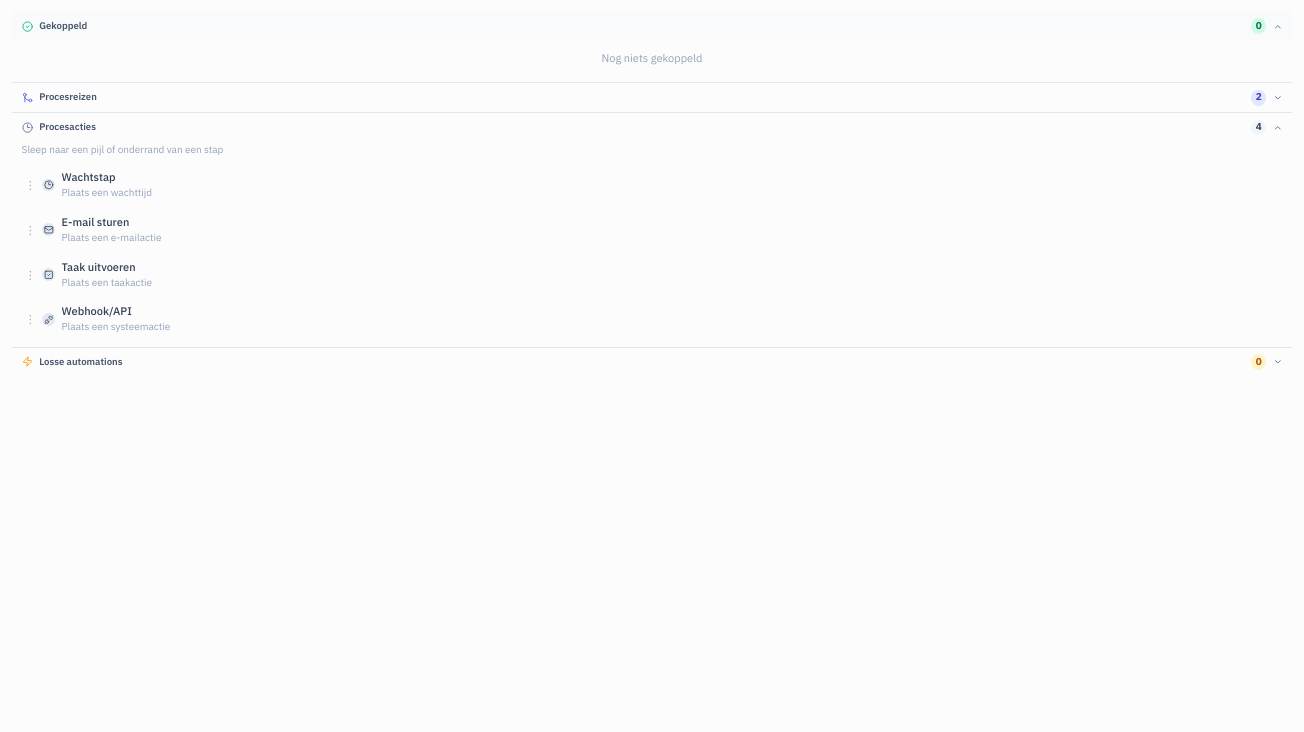
Test: UnassignedPanel automation search › filters process journeys by name, description, system, and id
Click the button "Procesreizen 2". click: coordinates (68, 97)
box: [12, 83, 1292, 112]
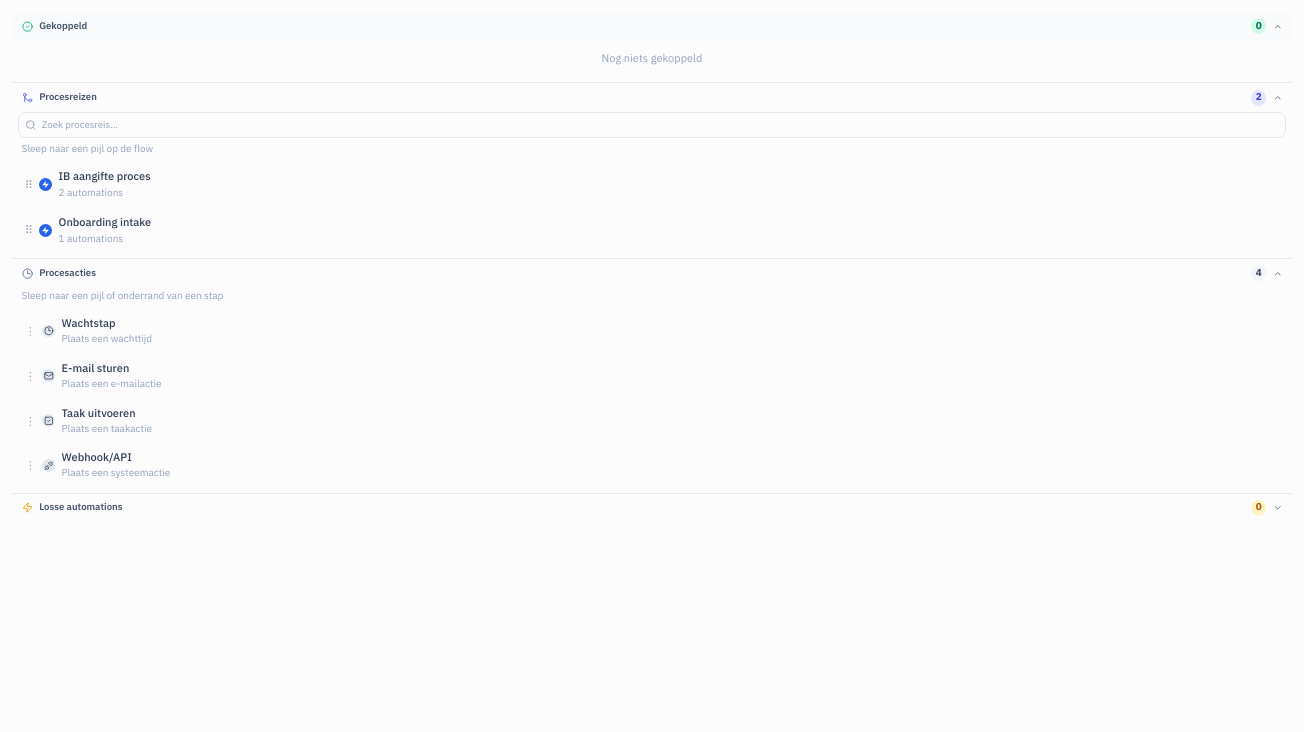
Expected: the text "IB aangifte proces" is shown, [59, 169, 151, 183]
Expected: the text "Onboarding intake" is shown, [59, 215, 151, 229]
Type "inkomstenbelasting" into the field with placeholder "Zoek procesreis...". click: coordinates (652, 125)
box: [18, 112, 1286, 138]
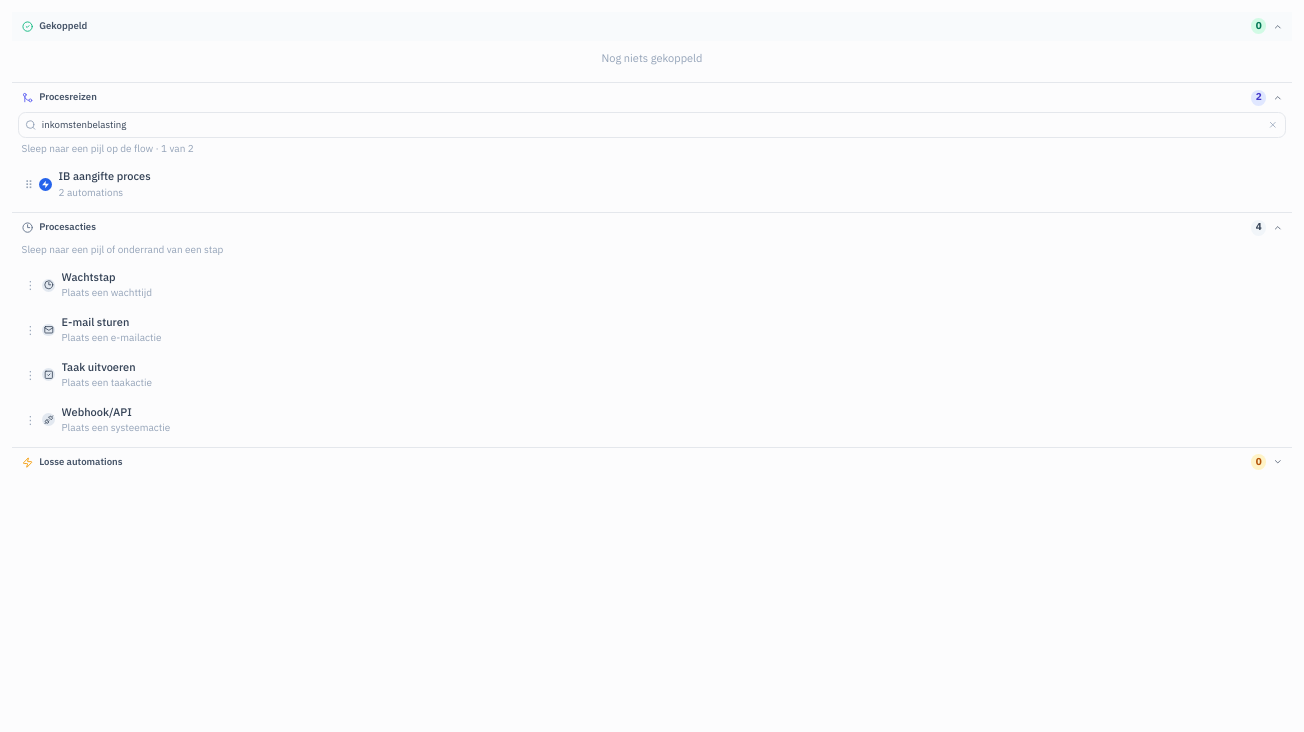
Expected: the text "IB aangifte proces" is shown, [59, 169, 151, 183]
Expected: the text "Onboarding intake" is gone
Replace the text in the field with placeholder "Zoek procesreis..." with "typeform". click: coordinates (652, 125)
box: [18, 112, 1286, 138]
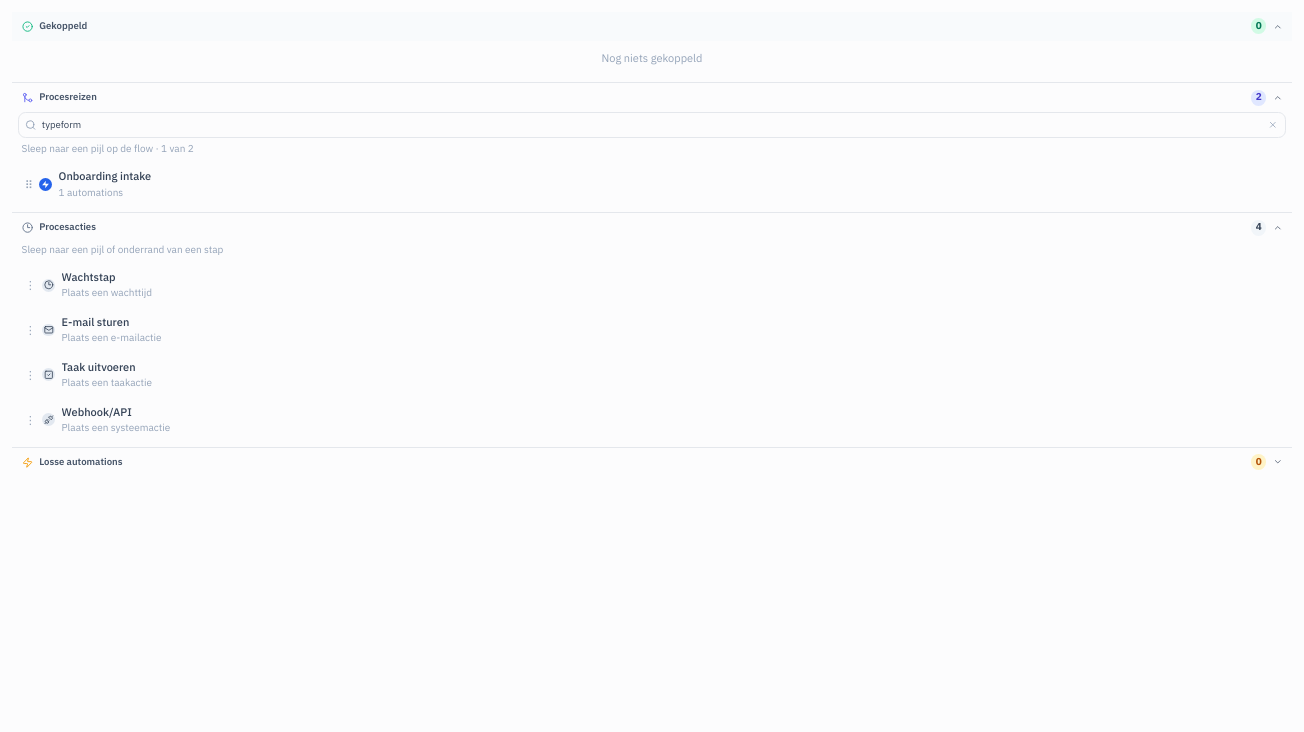
Expected: the text "IB aangifte proces" is gone
Expected: the text "Onboarding intake" is shown, [59, 169, 151, 183]
Replace the text in the field with placeholder "Zoek procesreis..." with "niet-bestaand". click: coordinates (652, 125)
box: [18, 112, 1286, 138]
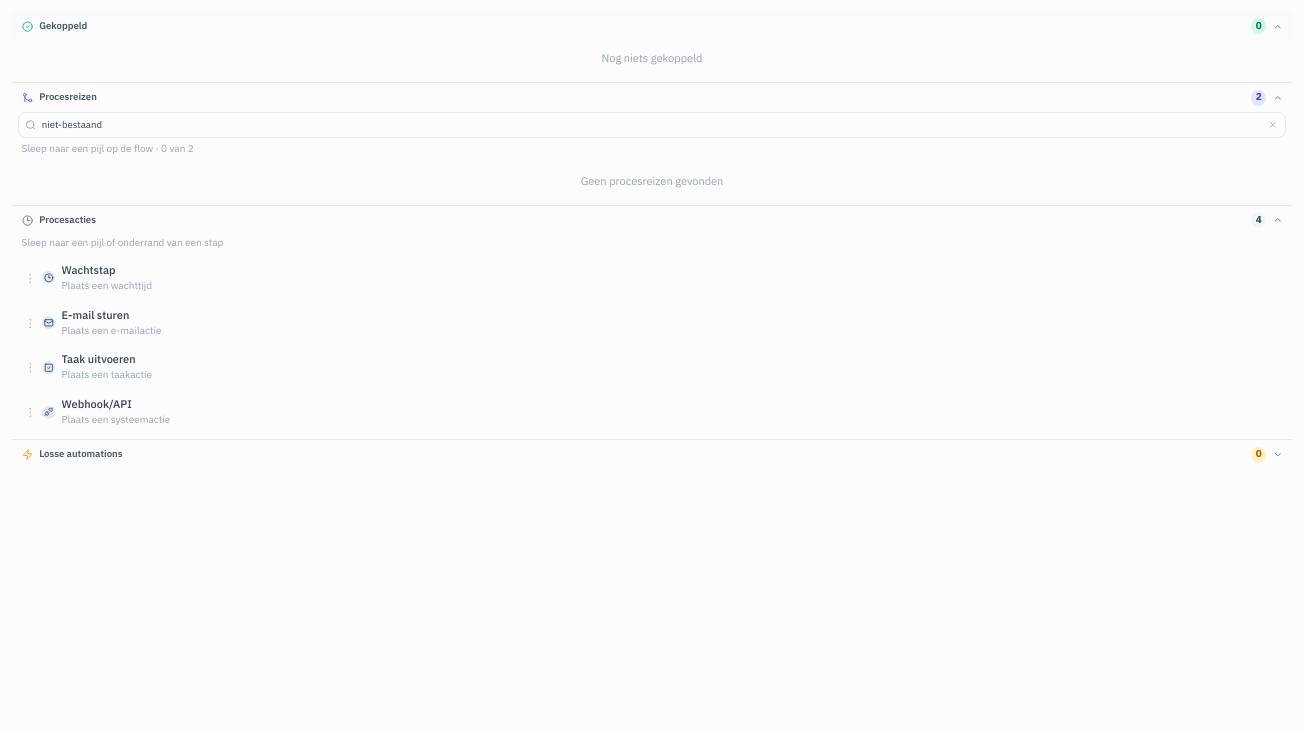
Expected: the text "Geen procesreizen gevonden" is shown, [581, 174, 723, 188]
